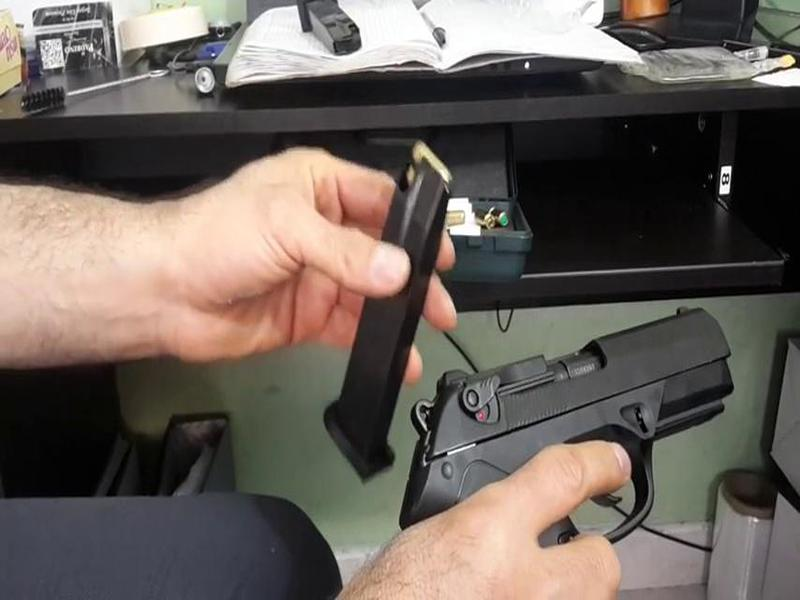Pistola: (392, 299, 772, 555)
